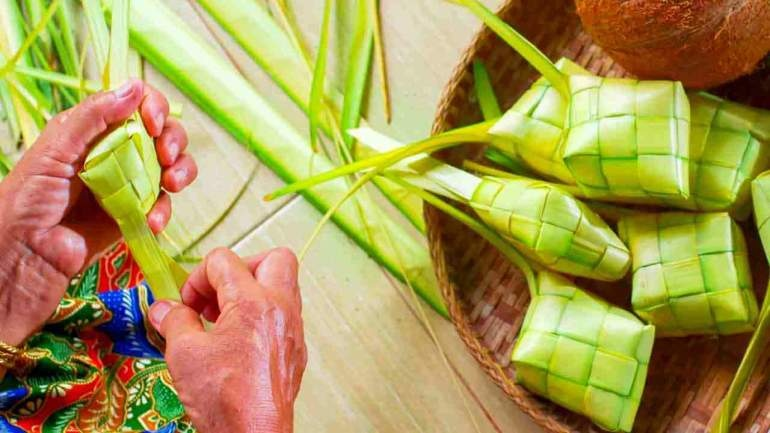ketupat: (508, 265, 653, 433), (618, 212, 758, 338), (559, 73, 694, 201)
